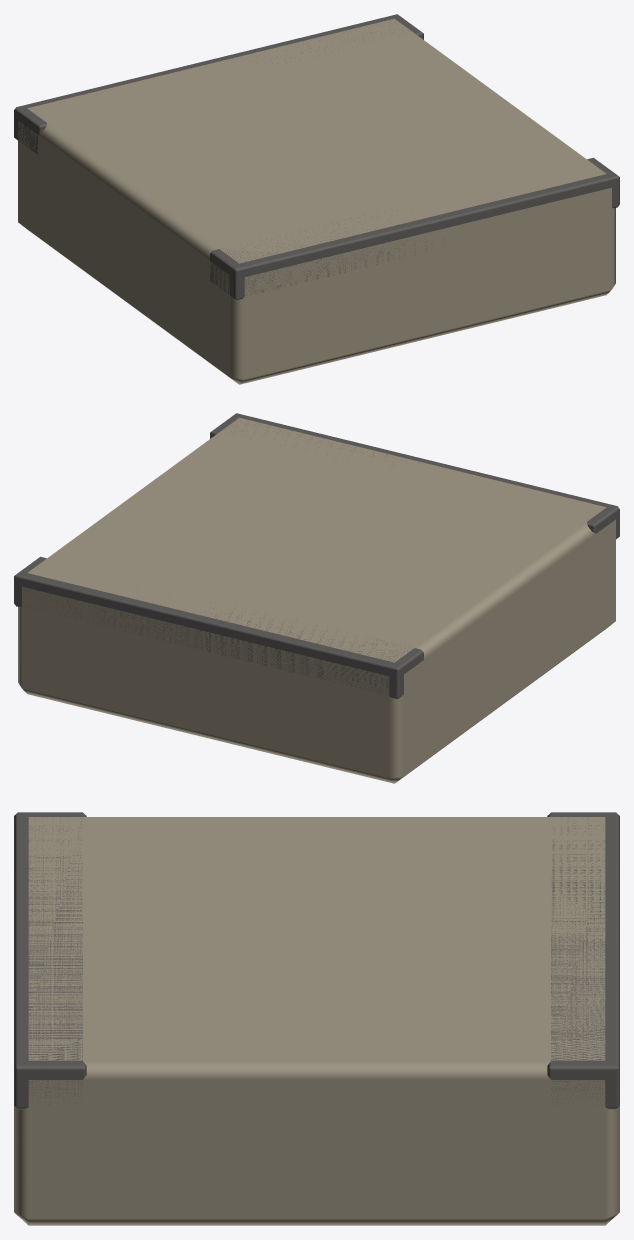
Rendered from stone-halls-bridge-deck.00b9e555.glb.
3 views of the same model, one above another, from view 1: azimuth 30°, elevation 25°; view 2: azimuth 150°, elevation 25°; view 3: azimuth 270°, elevation 25° (orthographic). The views are drawn at different scales.
Visible parts, largest first — view 1: body; view 2: body; view 3: body.
Part boxes in pixels (x1=…): body: x1=14, y1=14, x2=619, y2=384; body: x1=14, y1=413, x2=619, y2=783; body: x1=14, y1=812, x2=619, y2=1225.
Bounding box in the file's own units: 1 × 0.3 × 1.
